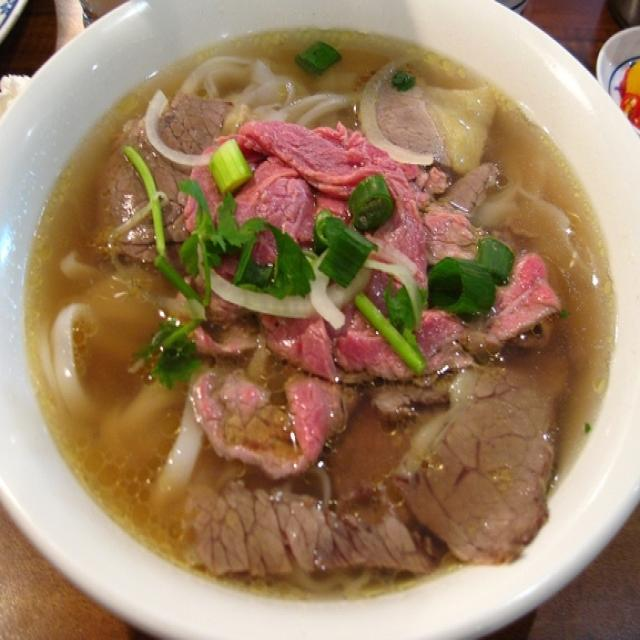面条主食: (8, 21, 606, 625)
